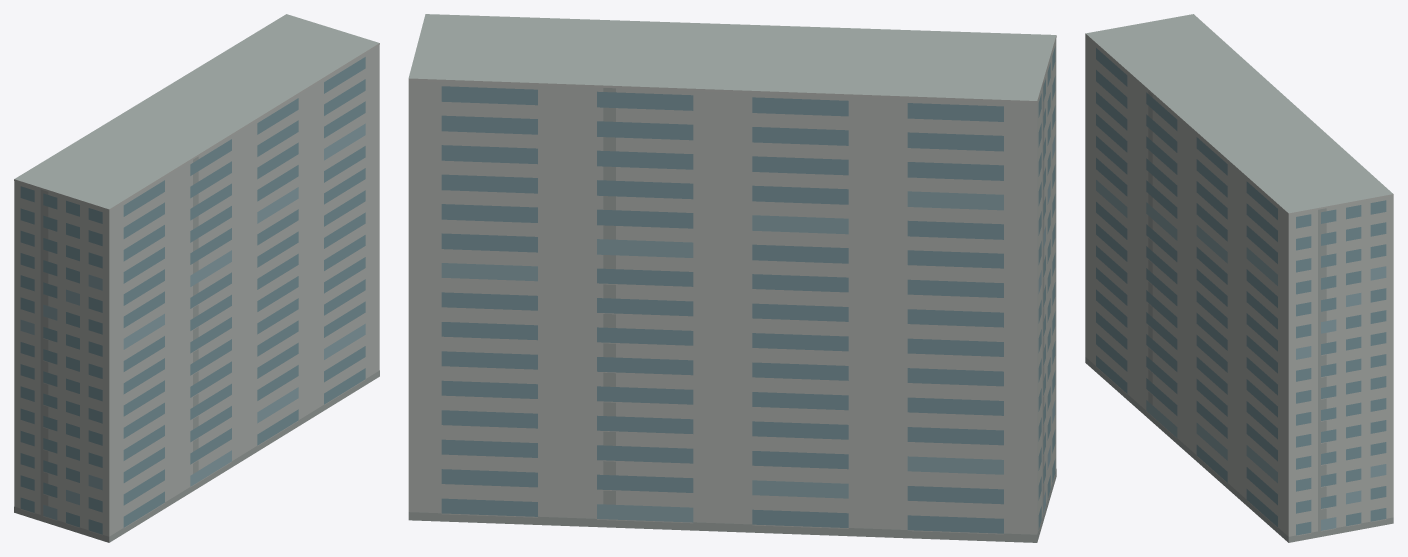
Rendered from residential-e60ebe9a-b6e6-4e3d-a370-2e2ac6c66ea1.glb.
3 renders of one model, left to right at view 1: azimuth 30°, elevation 25°; view 2: azimuth 150°, elevation 25°; view 3: azimuth 270°, elevation 25°, orthographic. The views are drawn at different scales.
Visible parts, largest first — view 1: residential-e60ebe9a-b6e6-4e3d-a370-2e2ac6c66ea1.tmp; view 2: residential-e60ebe9a-b6e6-4e3d-a370-2e2ac6c66ea1.tmp; view 3: residential-e60ebe9a-b6e6-4e3d-a370-2e2ac6c66ea1.tmp.
Boxes of the visible parts, x1,y1,x2,y2 form: residential-e60ebe9a-b6e6-4e3d-a370-2e2ac6c66ea1.tmp: [14, 14, 379, 542]; residential-e60ebe9a-b6e6-4e3d-a370-2e2ac6c66ea1.tmp: [408, 14, 1056, 542]; residential-e60ebe9a-b6e6-4e3d-a370-2e2ac6c66ea1.tmp: [1085, 14, 1393, 542].
Size of the model in its own units: 59.4 by 45.75 by 38.77.
